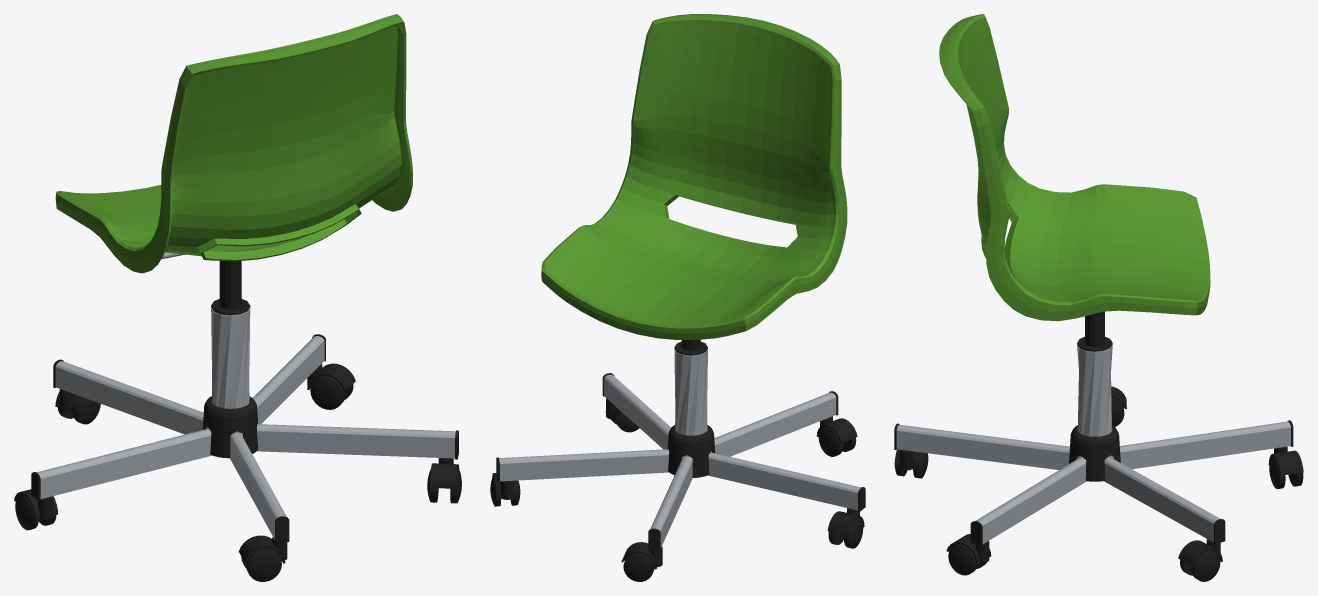
3 renders of one model, left to right at view 1: azimuth 30°, elevation 25°; view 2: azimuth 150°, elevation 25°; view 3: azimuth 270°, elevation 25°, orthographic. The views are drawn at different scales.
Visible parts, largest first — view 1: Mesh2 Group2 SNILLE_IKEA1 Model, Mesh8 Group6 SNILLE_IKEA1 Model, Mesh7 Group5 SNILLE_IKEA1 Model, Mesh1 Group1 SNILLE_IKEA1 Model, Mesh3 Group3 SNILLE_IKEA1 Model, Mesh14 ROULETTE2 SNILLE_IKEA1 Model, Mesh22 ROULETTE5 SNILLE_IKEA1 Model, Mesh15 ROULETTE3 SNILLE_IKEA1 Model, Mesh12 ROULETTE2 SNILLE_IKEA1 Model, Mesh21 ROULETTE5 SNILLE_IKEA1 Model, Mesh18 ROULETTE4 SNILLE_IKEA1 Model; view 2: Mesh2 Group2 SNILLE_IKEA1 Model, Mesh8 Group6 SNILLE_IKEA1 Model, Mesh7 Group5 SNILLE_IKEA1 Model, Mesh1 Group1 SNILLE_IKEA1 Model, Mesh11 ROULETTE1 SNILLE_IKEA1 Model, Mesh18 ROULETTE4 SNILLE_IKEA1 Model, Mesh12 ROULETTE2 SNILLE_IKEA1 Model, Mesh13 ROULETTE2 SNILLE_IKEA1 Model, Mesh9 ROULETTE1 SNILLE_IKEA1 Model; view 3: Mesh2 Group2 SNILLE_IKEA1 Model, Mesh8 Group6 SNILLE_IKEA1 Model, Mesh7 Group5 SNILLE_IKEA1 Model, Mesh1 Group1 SNILLE_IKEA1 Model, Mesh3 Group3 SNILLE_IKEA1 Model, Mesh17 ROULETTE3 SNILLE_IKEA1 Model, Mesh23 ROULETTE5 SNILLE_IKEA1 Model, Mesh9 ROULETTE1 SNILLE_IKEA1 Model, Mesh21 ROULETTE5 SNILLE_IKEA1 Model, Mesh15 ROULETTE3 SNILLE_IKEA1 Model.
Part boxes in pixels (x1,y1,x2,y2): Mesh2 Group2 SNILLE_IKEA1 Model: [55, 14, 412, 273]; Mesh8 Group6 SNILLE_IKEA1 Model: [31, 334, 458, 542]; Mesh7 Group5 SNILLE_IKEA1 Model: [211, 307, 250, 408]; Mesh1 Group1 SNILLE_IKEA1 Model: [202, 396, 258, 458]; Mesh3 Group3 SNILLE_IKEA1 Model: [211, 261, 250, 315]; Mesh14 ROULETTE2 SNILLE_IKEA1 Model: [246, 548, 281, 581]; Mesh22 ROULETTE5 SNILLE_IKEA1 Model: [310, 376, 345, 409]; Mesh15 ROULETTE3 SNILLE_IKEA1 Model: [430, 458, 459, 488]; Mesh12 ROULETTE2 SNILLE_IKEA1 Model: [239, 535, 287, 563]; Mesh21 ROULETTE5 SNILLE_IKEA1 Model: [307, 363, 355, 391]; Mesh18 ROULETTE4 SNILLE_IKEA1 Model: [14, 489, 57, 520]; Mesh2 Group2 SNILLE_IKEA1 Model: [541, 14, 847, 339]; Mesh8 Group6 SNILLE_IKEA1 Model: [496, 373, 865, 551]; Mesh7 Group5 SNILLE_IKEA1 Model: [674, 349, 707, 435]; Mesh1 Group1 SNILLE_IKEA1 Model: [667, 425, 715, 477]; Mesh11 ROULETTE1 SNILLE_IKEA1 Model: [623, 553, 654, 581]; Mesh18 ROULETTE4 SNILLE_IKEA1 Model: [827, 508, 864, 535]; Mesh12 ROULETTE2 SNILLE_IKEA1 Model: [816, 416, 857, 443]; Mesh13 ROULETTE2 SNILLE_IKEA1 Model: [818, 427, 843, 456]; Mesh9 ROULETTE1 SNILLE_IKEA1 Model: [621, 542, 662, 569]; Mesh2 Group2 SNILLE_IKEA1 Model: [939, 14, 1210, 321]; Mesh8 Group6 SNILLE_IKEA1 Model: [894, 420, 1293, 546]; Mesh7 Group5 SNILLE_IKEA1 Model: [1077, 345, 1112, 436]; Mesh1 Group1 SNILLE_IKEA1 Model: [1069, 425, 1120, 481]; Mesh3 Group3 SNILLE_IKEA1 Model: [1077, 311, 1112, 351]; Mesh17 ROULETTE3 SNILLE_IKEA1 Model: [948, 544, 977, 575]; Mesh23 ROULETTE5 SNILLE_IKEA1 Model: [1191, 550, 1220, 581]; Mesh9 ROULETTE1 SNILLE_IKEA1 Model: [1268, 446, 1303, 475]; Mesh21 ROULETTE5 SNILLE_IKEA1 Model: [1178, 539, 1222, 566]; Mesh15 ROULETTE3 SNILLE_IKEA1 Model: [946, 534, 991, 564].
Size of the model in its own units: 0.583 by 0.7328 by 0.5964.
